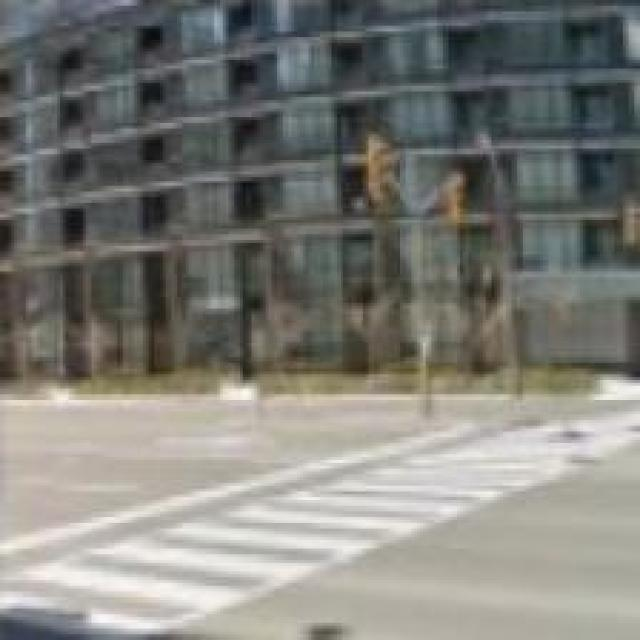walk-crossing: (0, 405, 634, 634)
